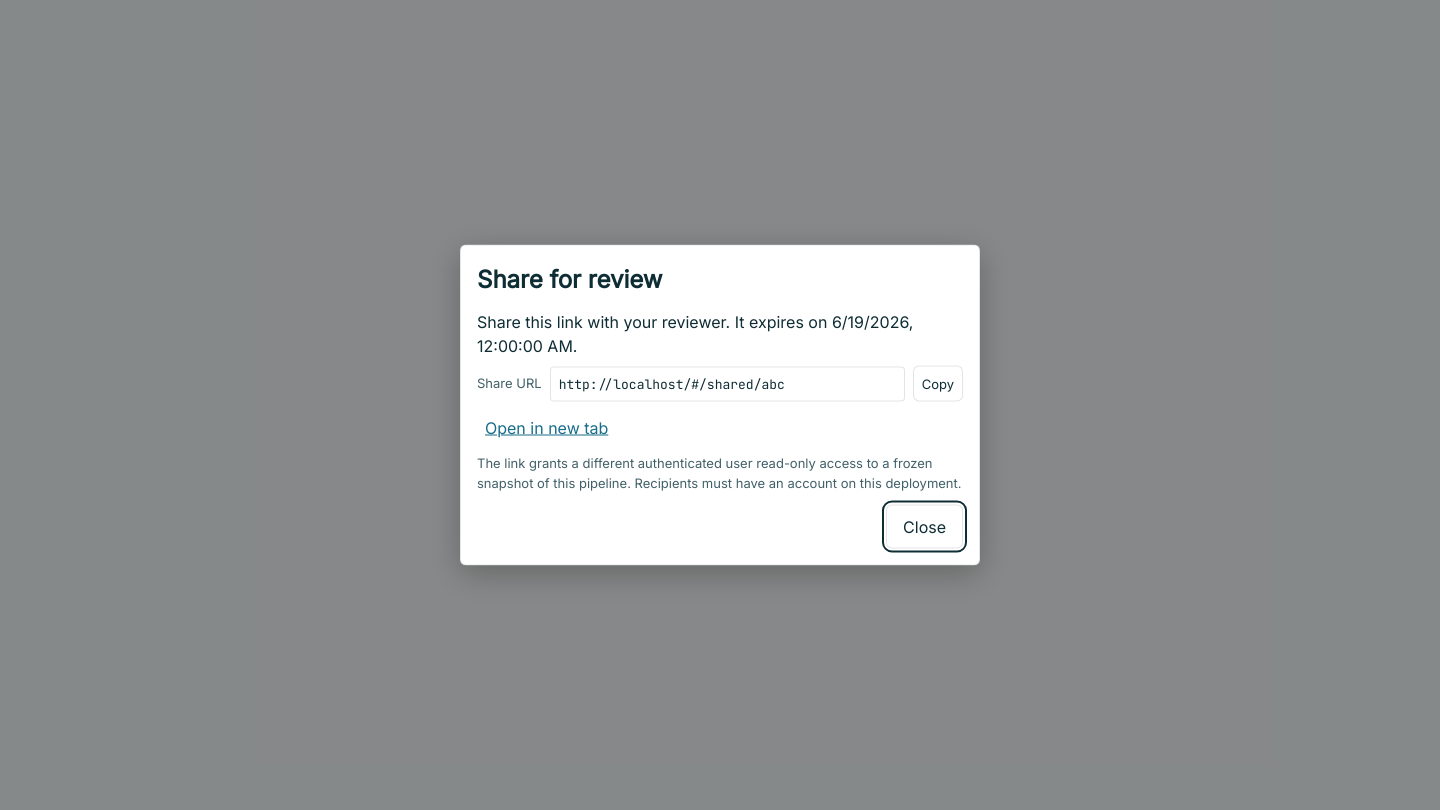
Scenario: SaveForReviewDialog › copy button writes the absolute URL to the clipboard and shows feedback
Click the button with test id "save-for-review-copy". click: (938, 384)
box: x1=913 y1=366 x2=963 y2=402
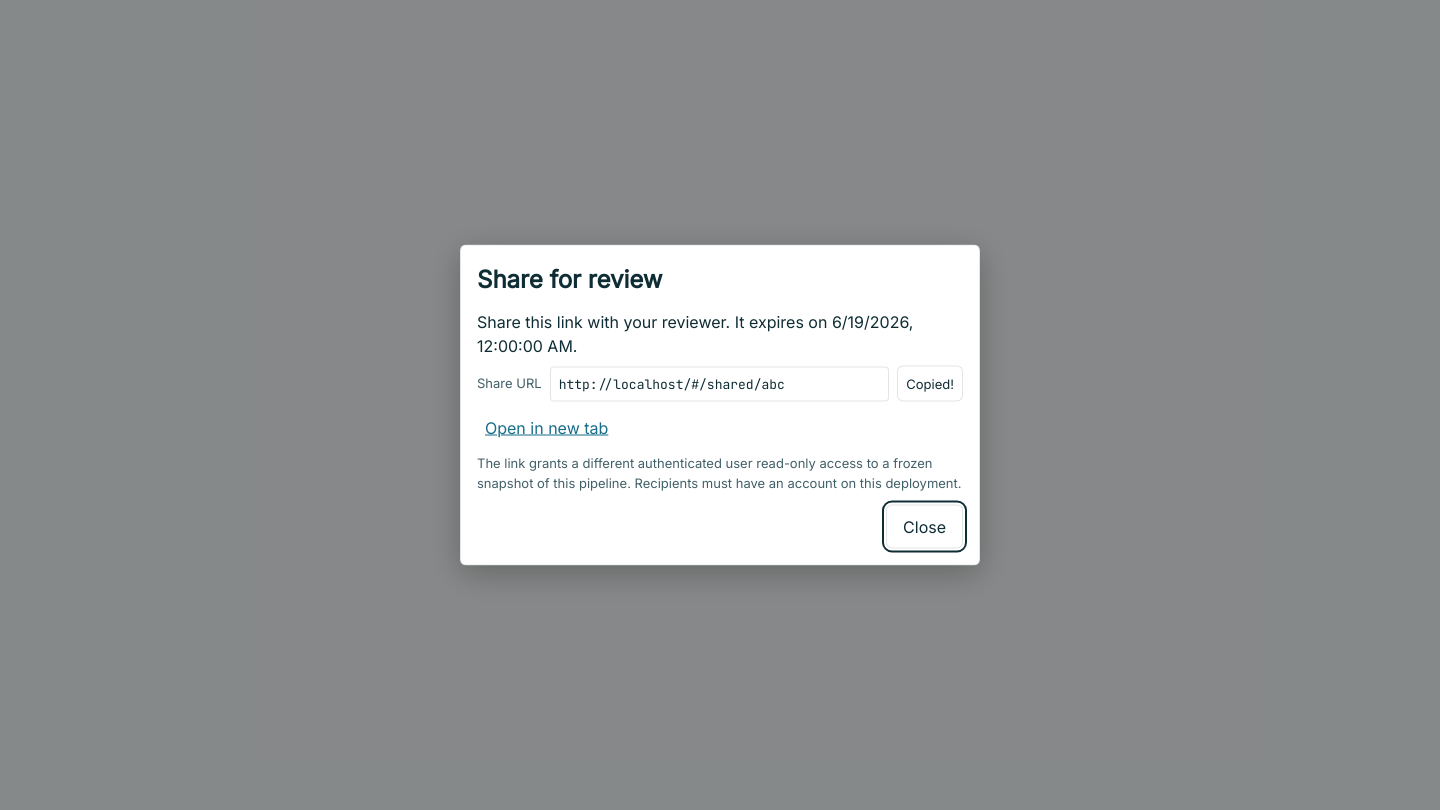
Check: the button with test id "save-for-review-copy" shows "Copied", box x1=897 y1=366 x2=963 y2=402
